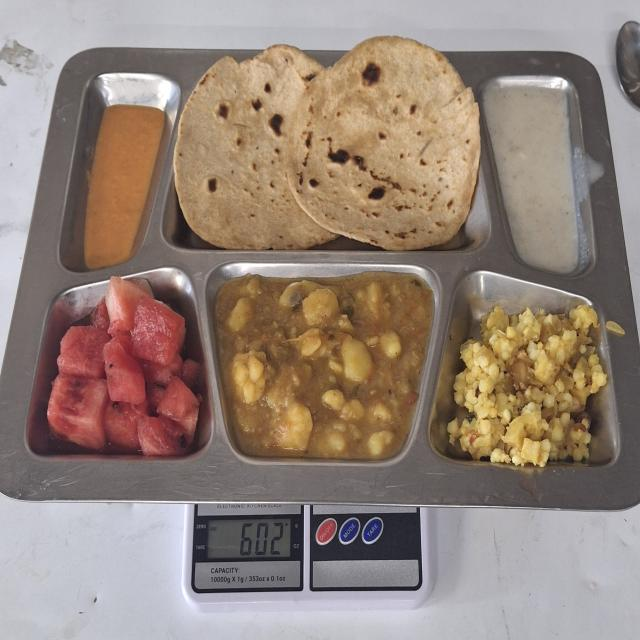Aloo Sabji: (215, 273, 438, 465)
Chapati: (174, 37, 481, 255)
Chutney: (77, 99, 166, 275)
Khichdi: (451, 299, 608, 468)
Porridge: (483, 80, 583, 279)
Watermelon: (45, 277, 202, 459)
